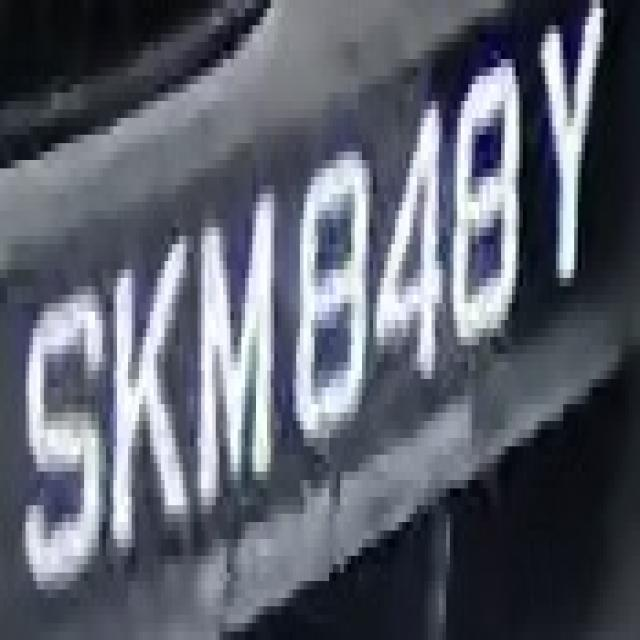4: (366, 84, 454, 404)
8: (293, 135, 384, 488), (446, 51, 530, 362)
K: (88, 227, 190, 573)
M: (183, 185, 281, 522)
S: (18, 278, 114, 589)
Y: (534, 8, 618, 312)
